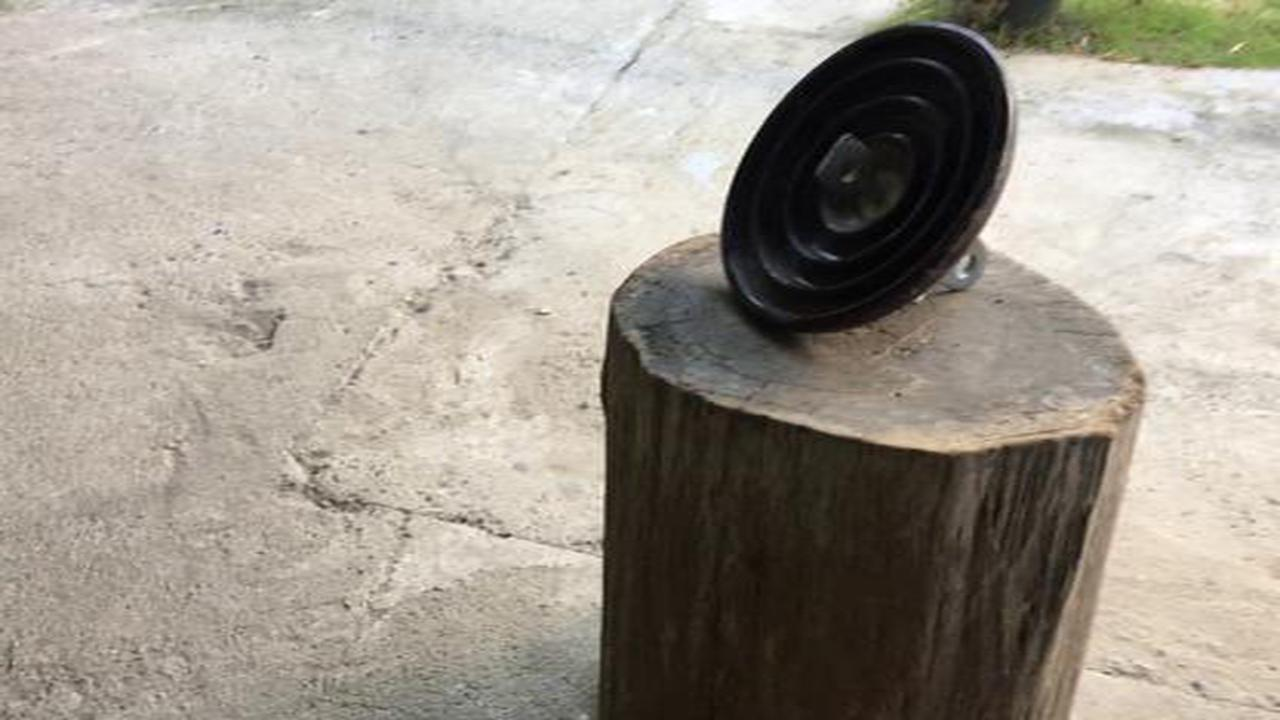insulator_disc: (717, 16, 1025, 340)
